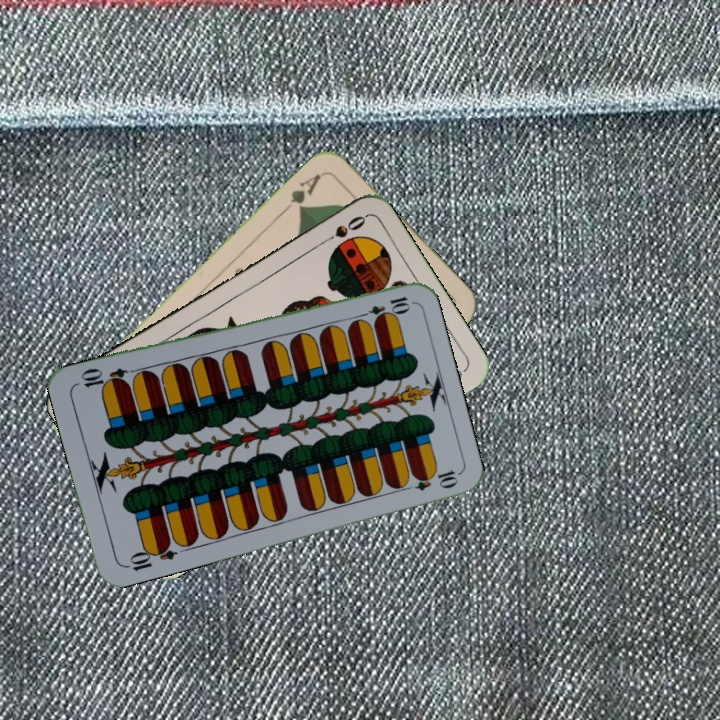E10: (121, 538, 179, 574), (354, 292, 413, 322)
GA: (280, 169, 327, 214)
SO: (315, 211, 369, 249)
